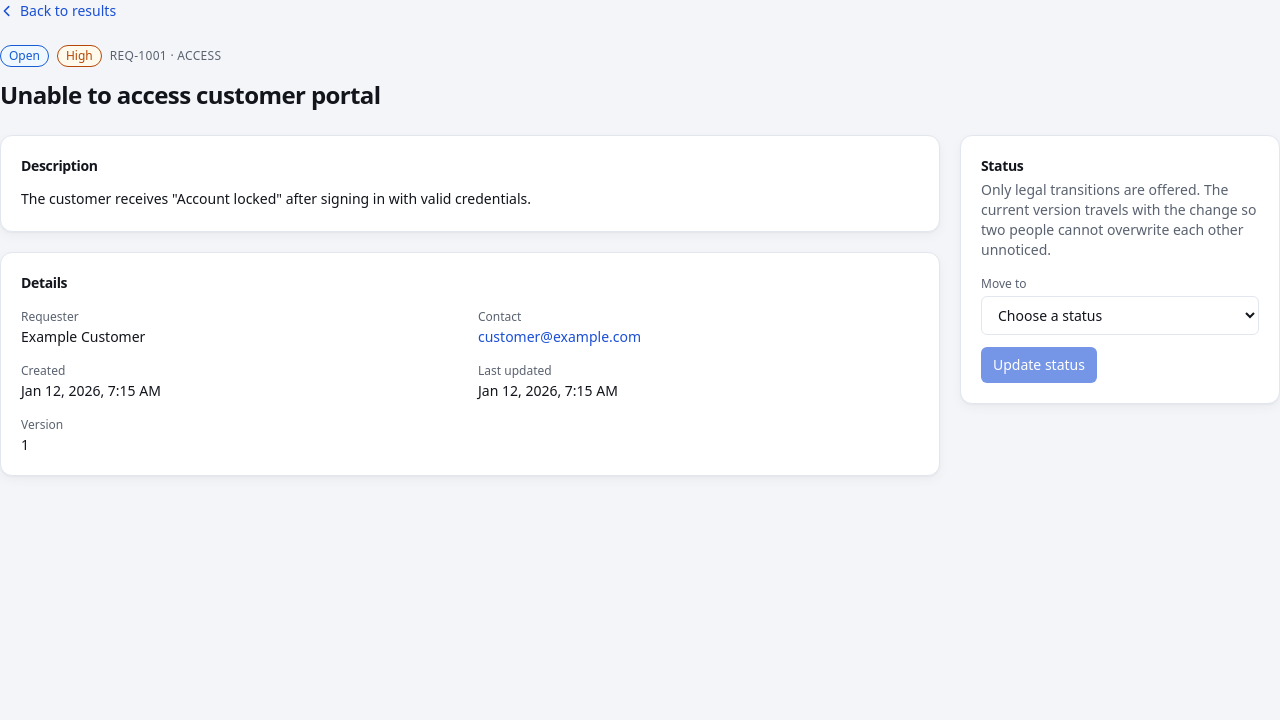
Test case: status transitions › applies an allowed transition
Step 1. Select "In progress" in the dropdown labelled "Move to" → (1120, 316), box 981,296 -> 1259,335
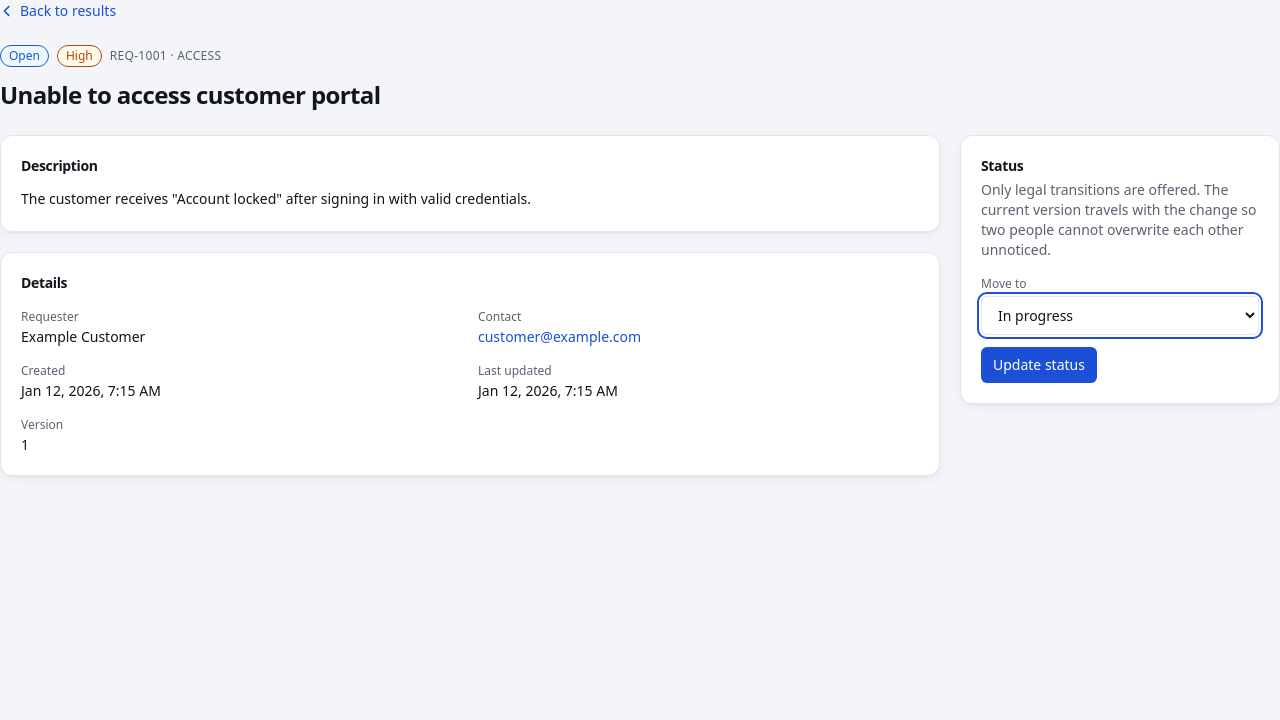
Step 2. Click the button "Update status" → (1039, 365), box 981,347 -> 1097,383
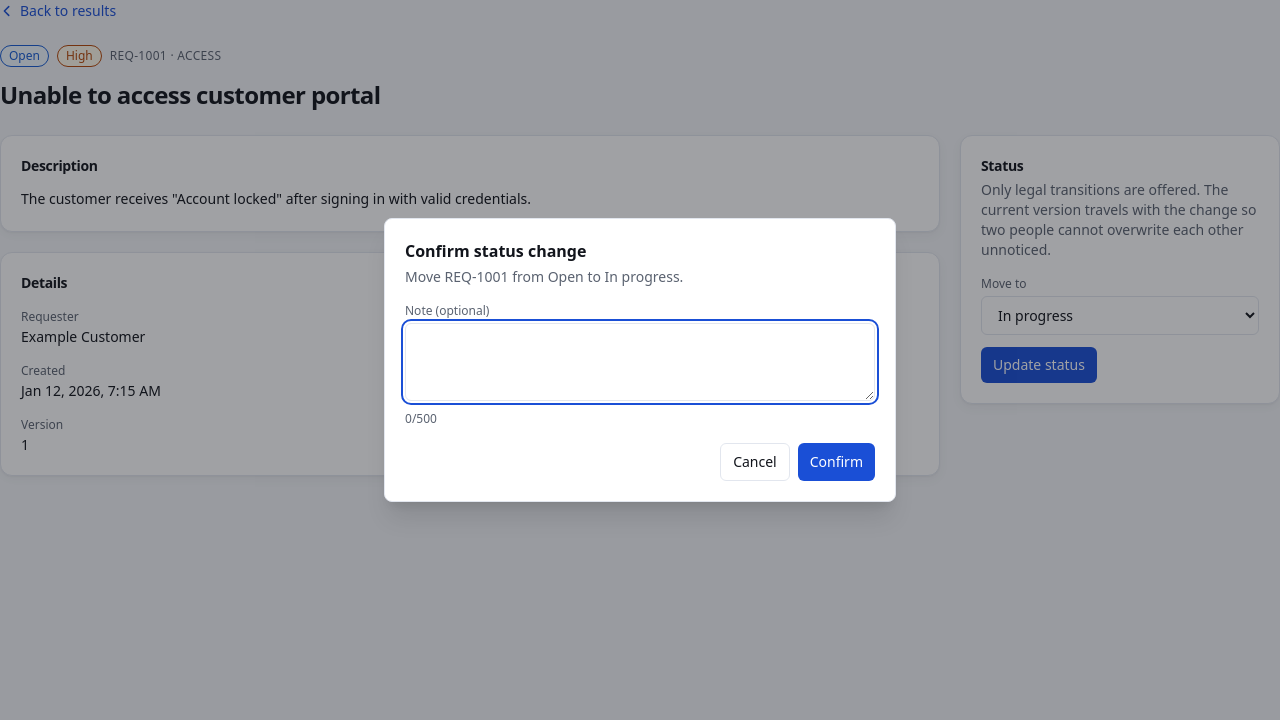
Step 3. Click the button "Confirm" → (836, 462), box 798,443 -> 875,481
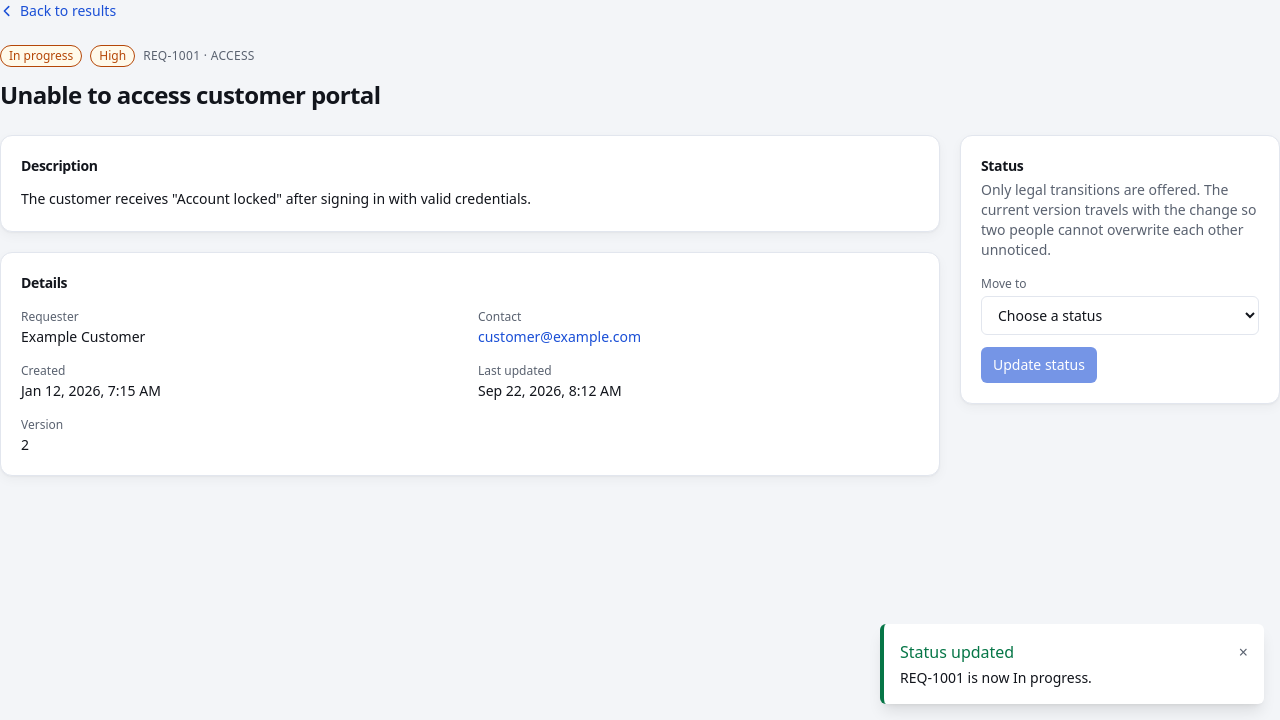
Check: the text "REQ-1001 is now In progress." is shown, box 900,668 -> 1092,687
